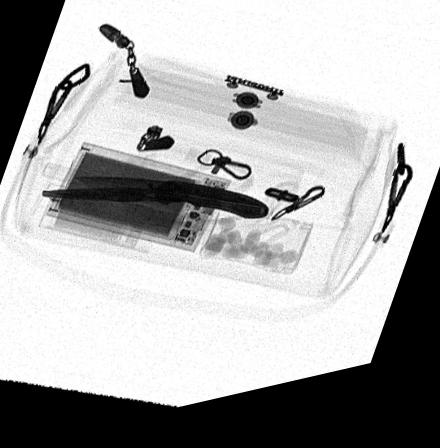Knife: (77, 179, 267, 230)
Powerbank: (50, 145, 232, 261)
Scissors: (39, 170, 254, 237)
